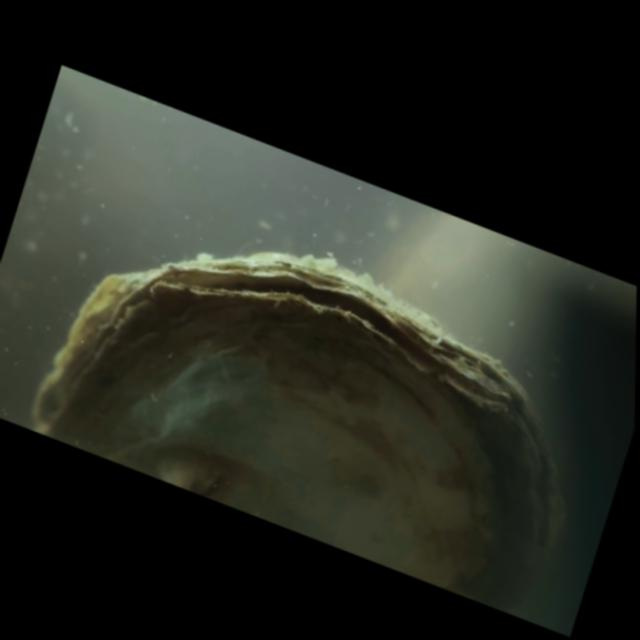Oyster-Closed: (24, 229, 570, 607)
